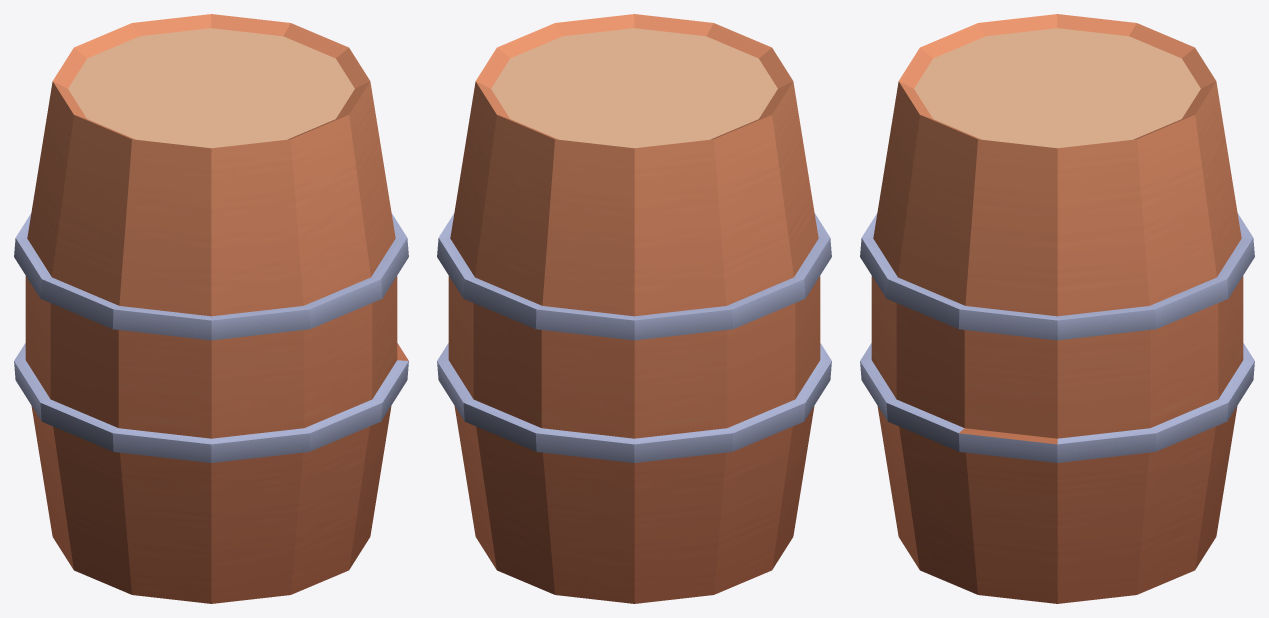
Rendered from barrelLarge.fbx.
3 views of the same model, side by side, from view 1: azimuth 30°, elevation 25°; view 2: azimuth 150°, elevation 25°; view 3: azimuth 270°, elevation 25° (orthographic).
Parts seen in each view (by area): view 1: barrelLarge; view 2: barrelLarge; view 3: barrelLarge.
Part boxes in pixels (x1,y1,x2,y2): barrelLarge: (14,14,408,603); barrelLarge: (437,14,831,603); barrelLarge: (860,14,1254,603).
Size of the model in its own units: 0.3928 by 0.3928 by 0.5.
